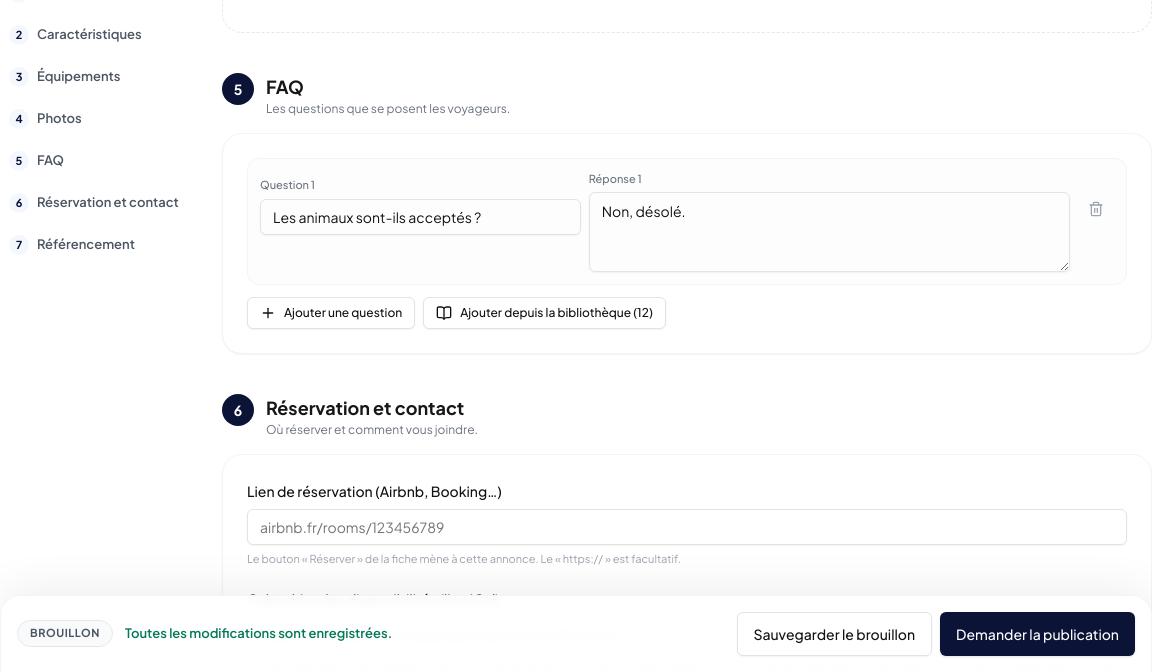
Test: 082 — bibliothèque de FAQ dans la page Logement › « Tout sélectionner » ajoute toutes les questions manquantes
(page scrolled)
Click the button "Ajouter depuis la bibliothèque (12)": (544,312) [423, 296, 666, 328]
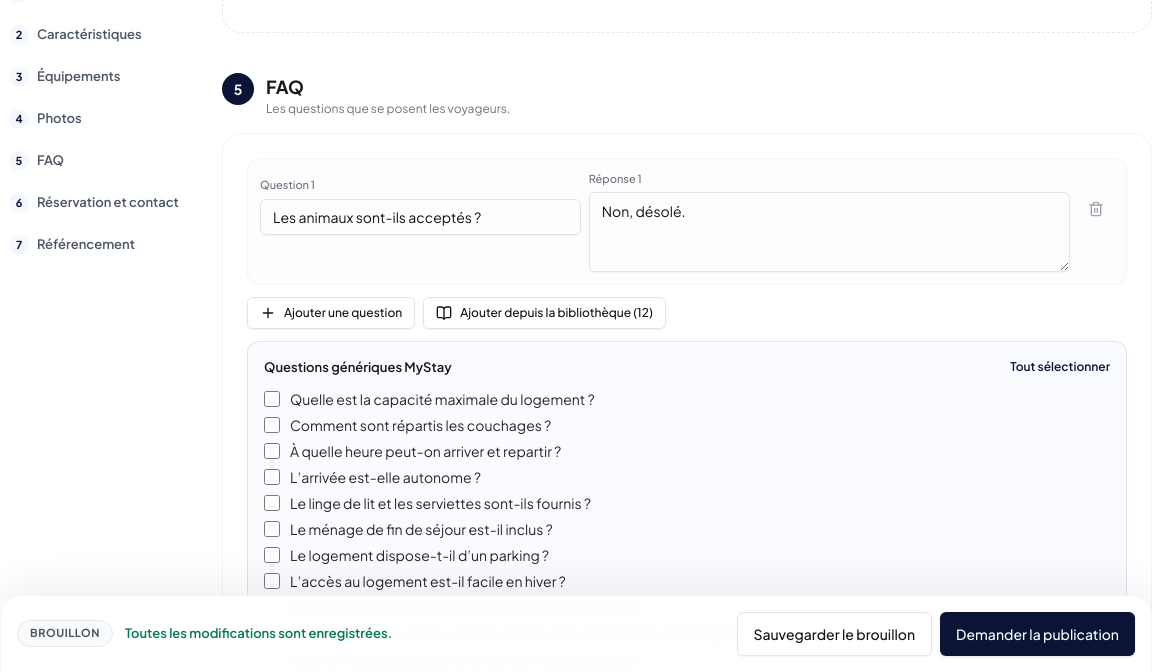
Click the button "Tout sélectionner": (1060,367) [1010, 358, 1110, 376]
(page scrolled)
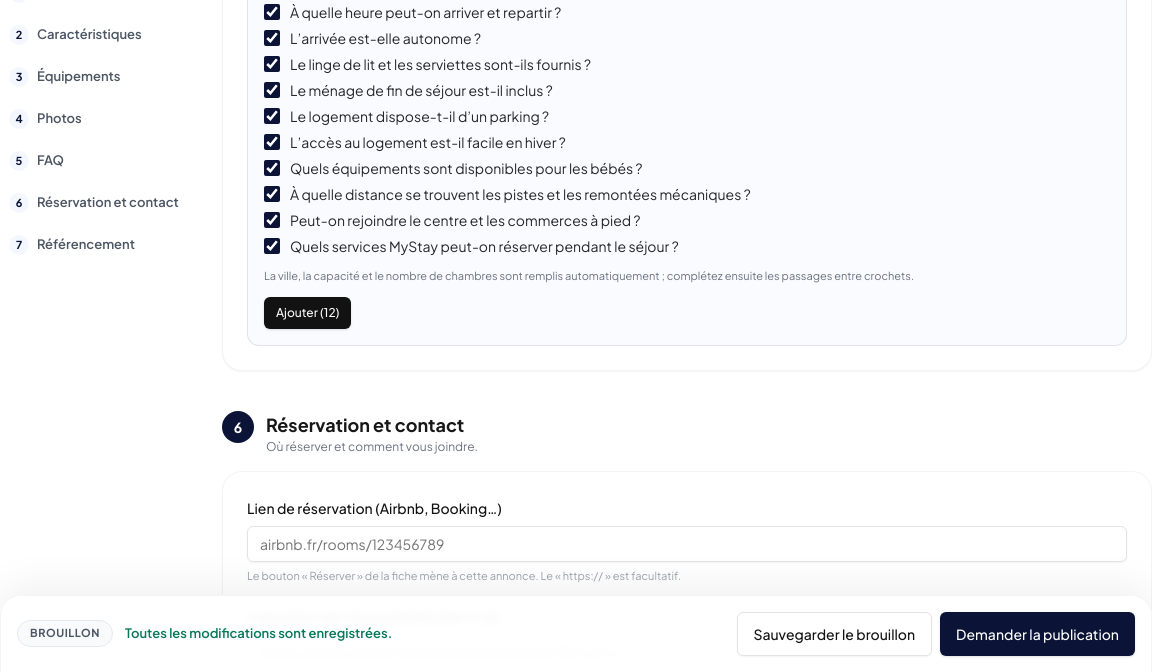
Click the button "Ajouter (12)": (308,312) [264, 296, 352, 328]
(page scrolled)
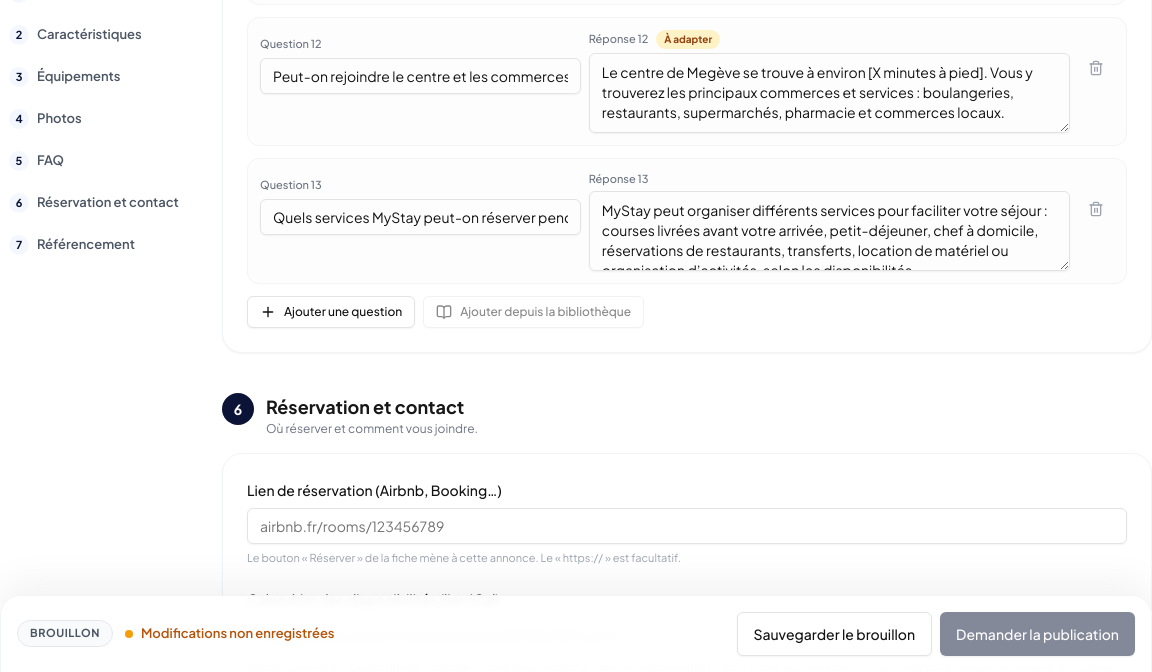
Now the button "Ajouter depuis la bibliothèque" is disabled, box [423, 296, 644, 328]
